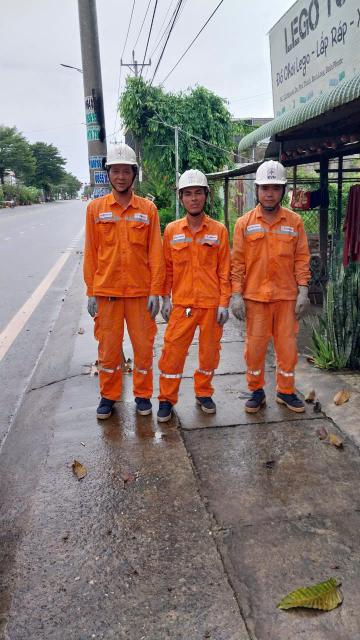gloves: (289, 274, 315, 324), (80, 291, 115, 327), (222, 290, 247, 322), (155, 290, 175, 322), (144, 287, 161, 320), (215, 303, 232, 326)
helmet: (98, 132, 147, 180), (174, 163, 211, 198), (253, 155, 290, 189)
shoes: (242, 385, 268, 418), (277, 388, 307, 416), (153, 395, 178, 427), (189, 393, 224, 415), (90, 393, 119, 416), (130, 392, 155, 416)
